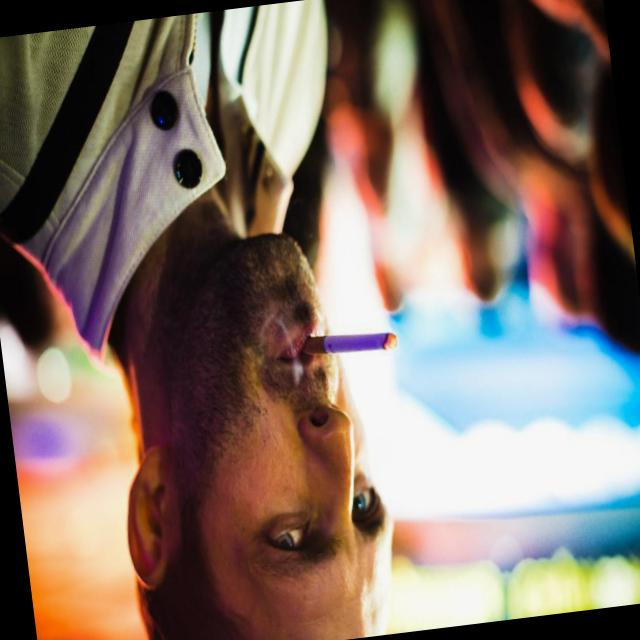smoke: (296, 304, 407, 385)
